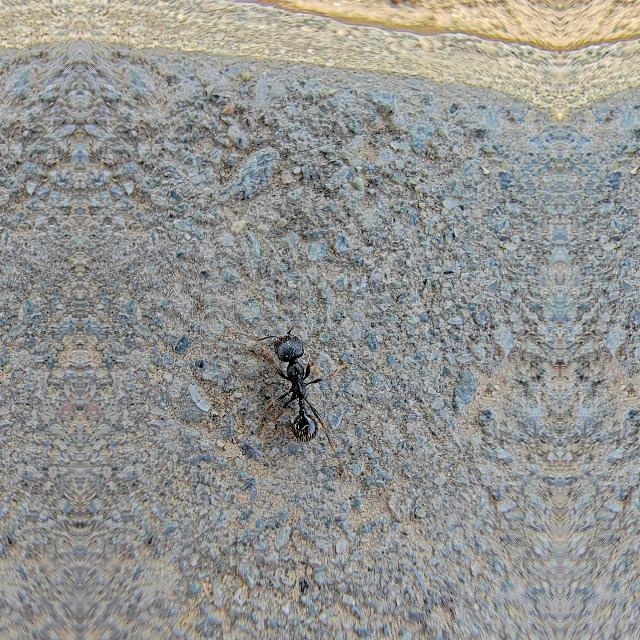Messor: (254, 322, 334, 446)
